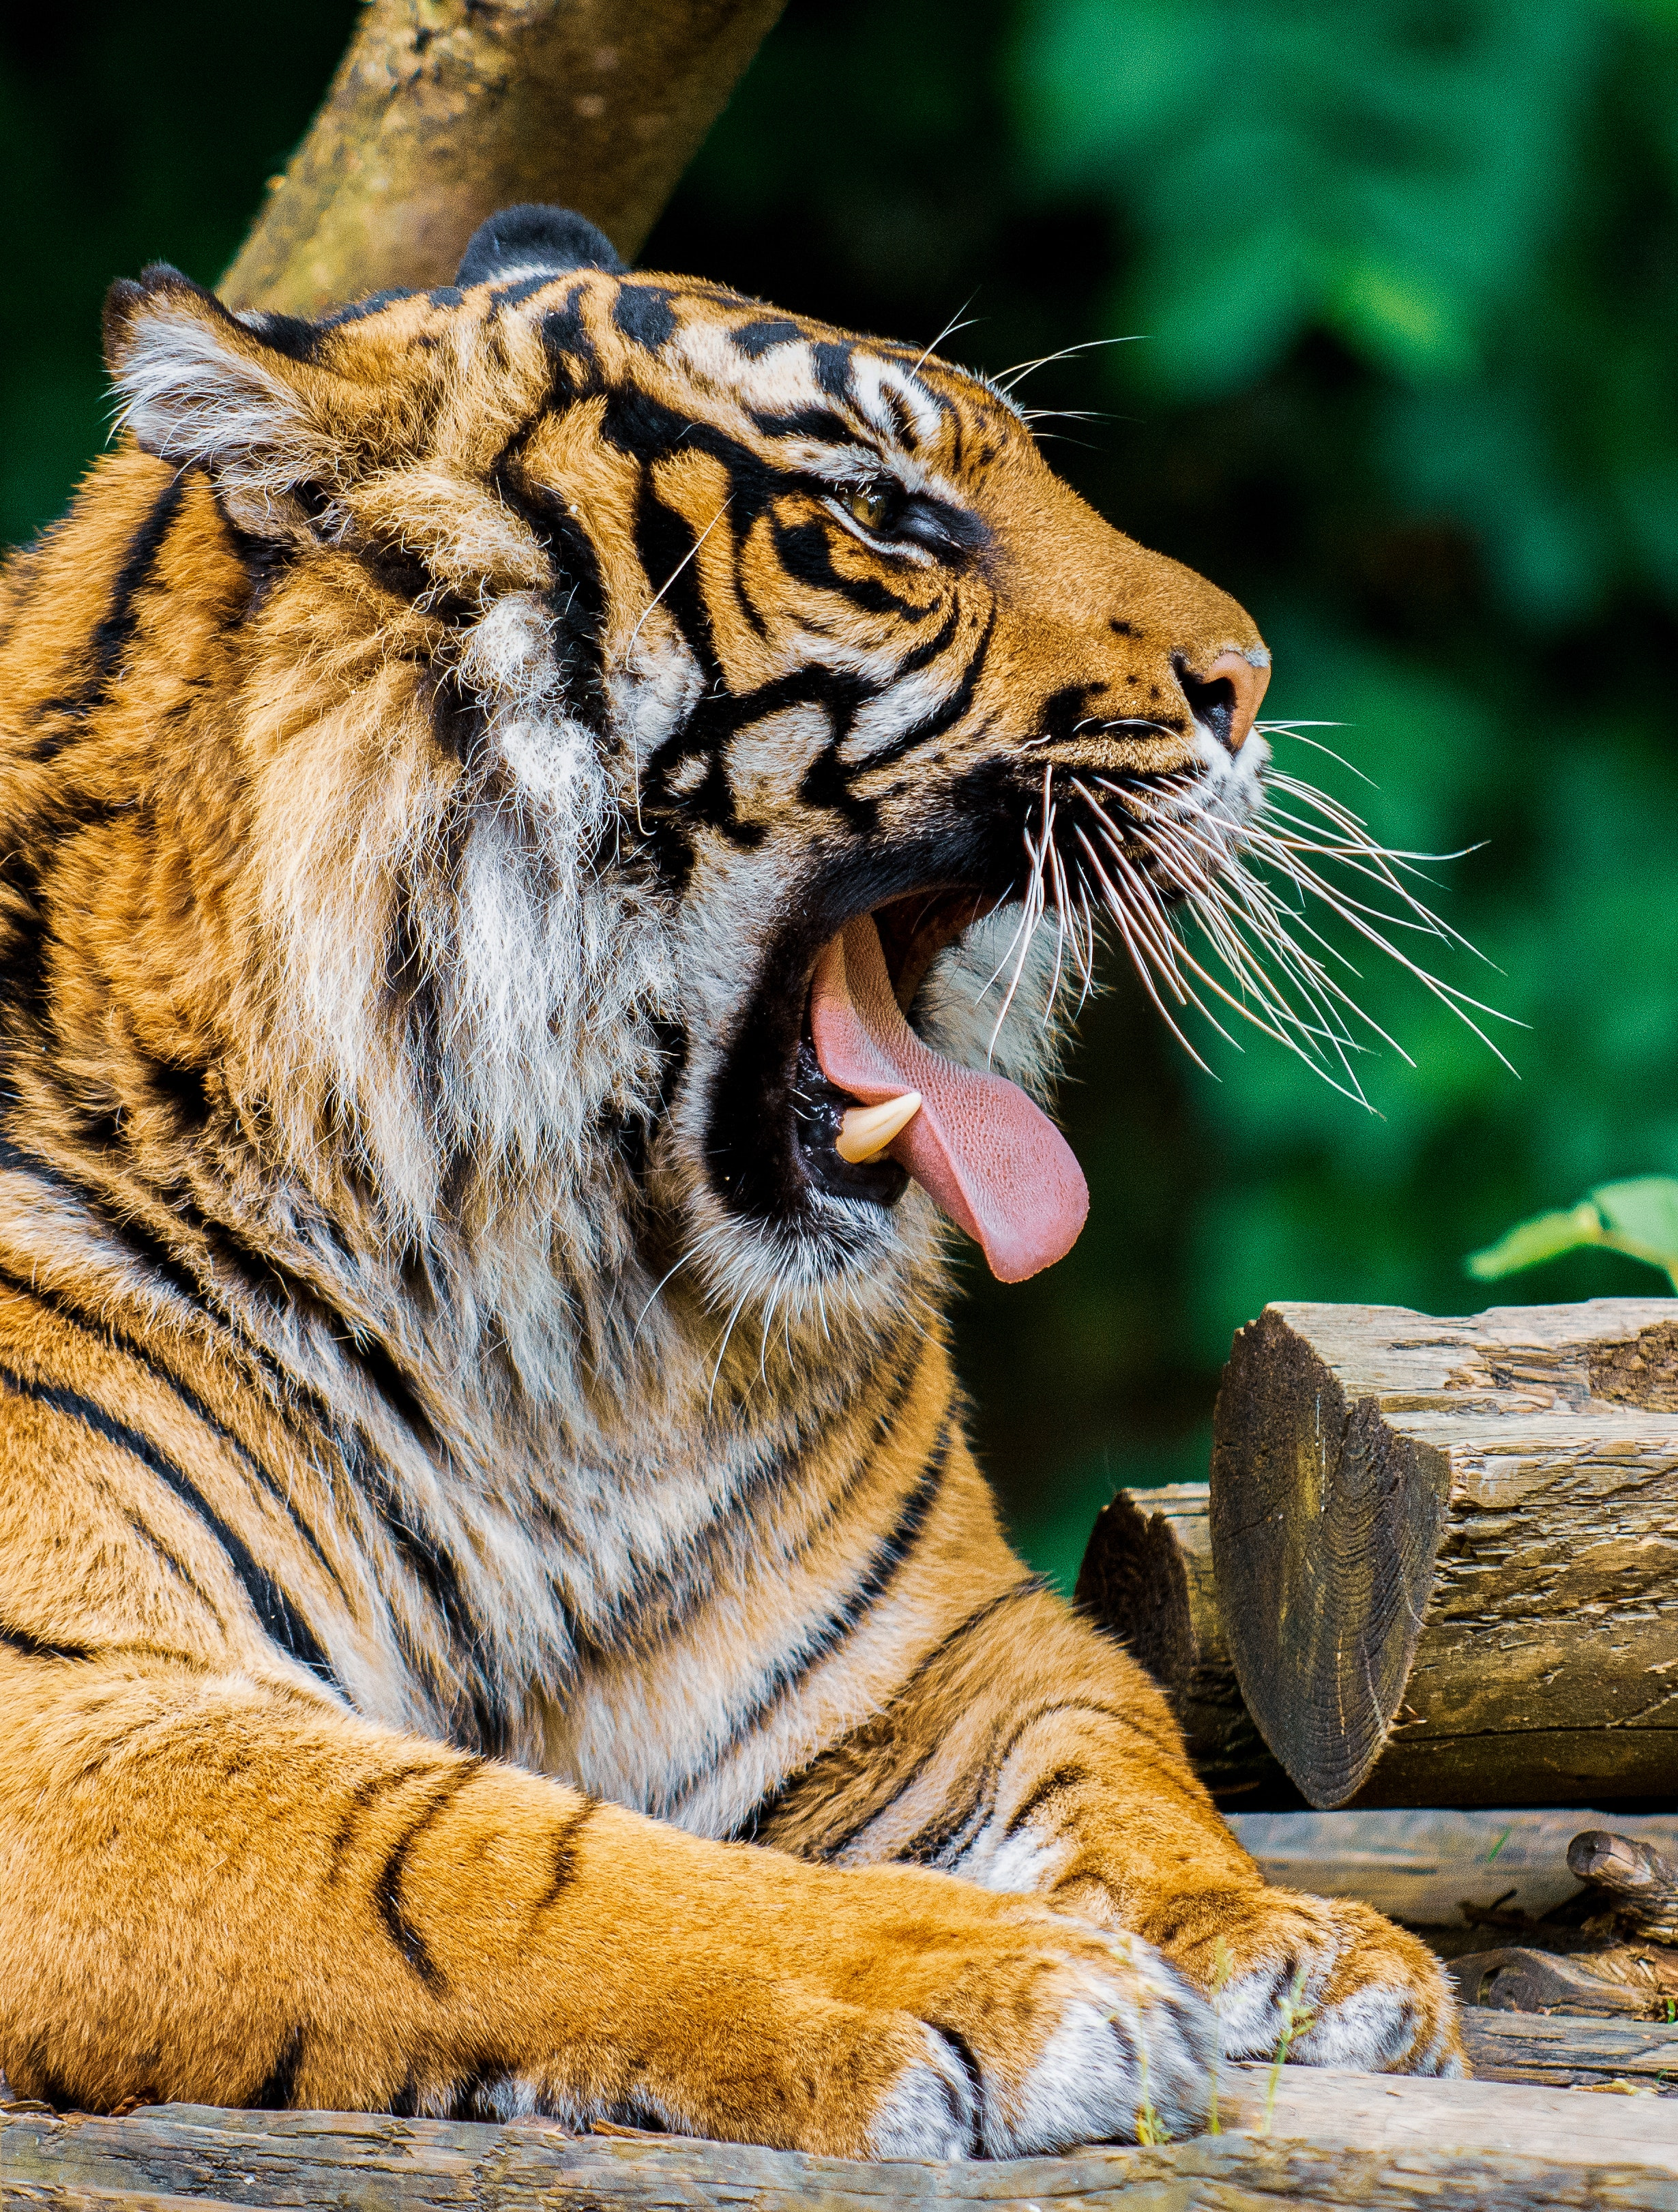tiger: (12, 153, 1505, 2133)
